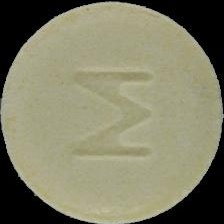69189-5510: (0, 0, 224, 224)
